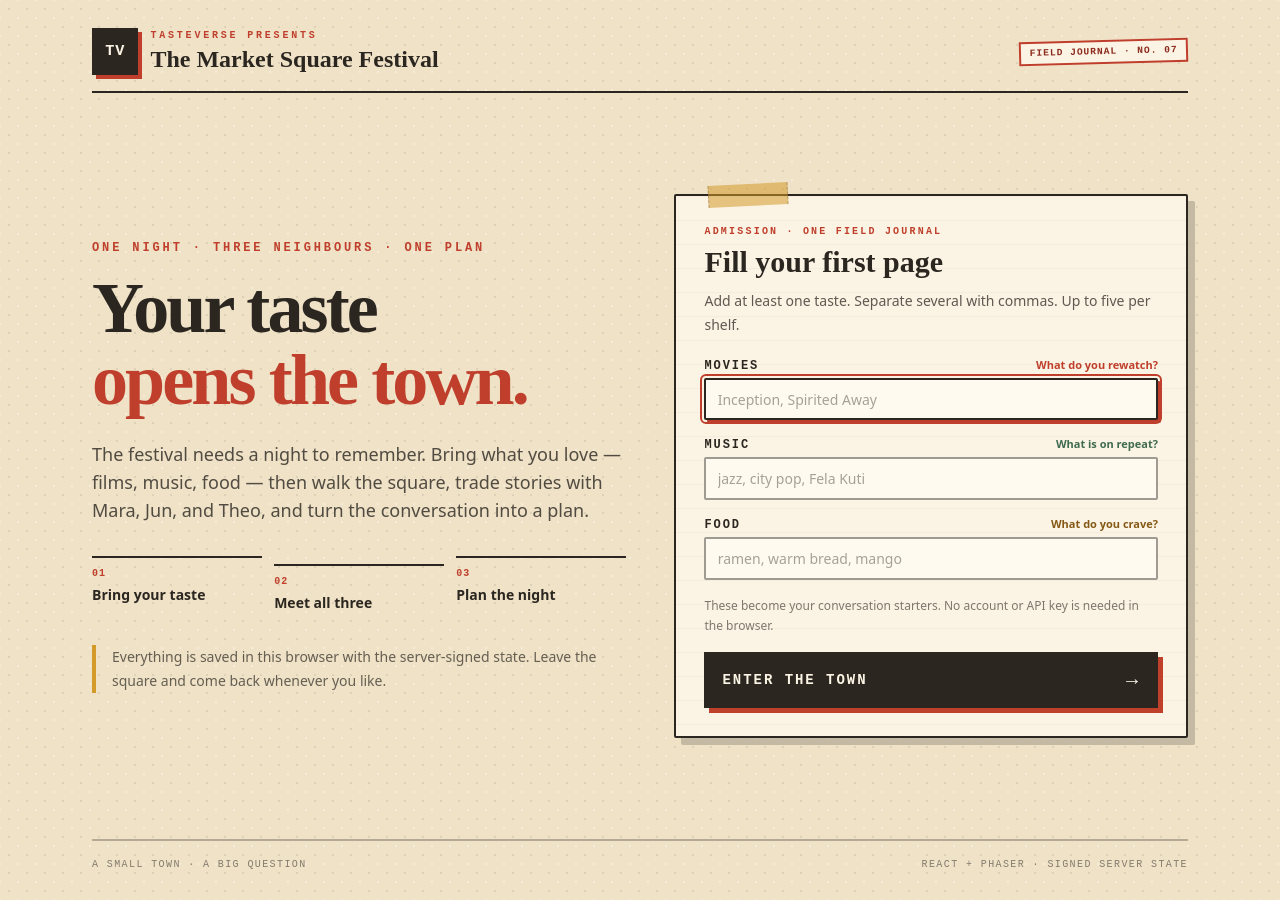
Test: App start flow › offers a retry when the start request cannot reach the API
Type "ramen" into the field labelled "Food What do you crave?". click: (931, 558)
box: [704,537,1158,580]
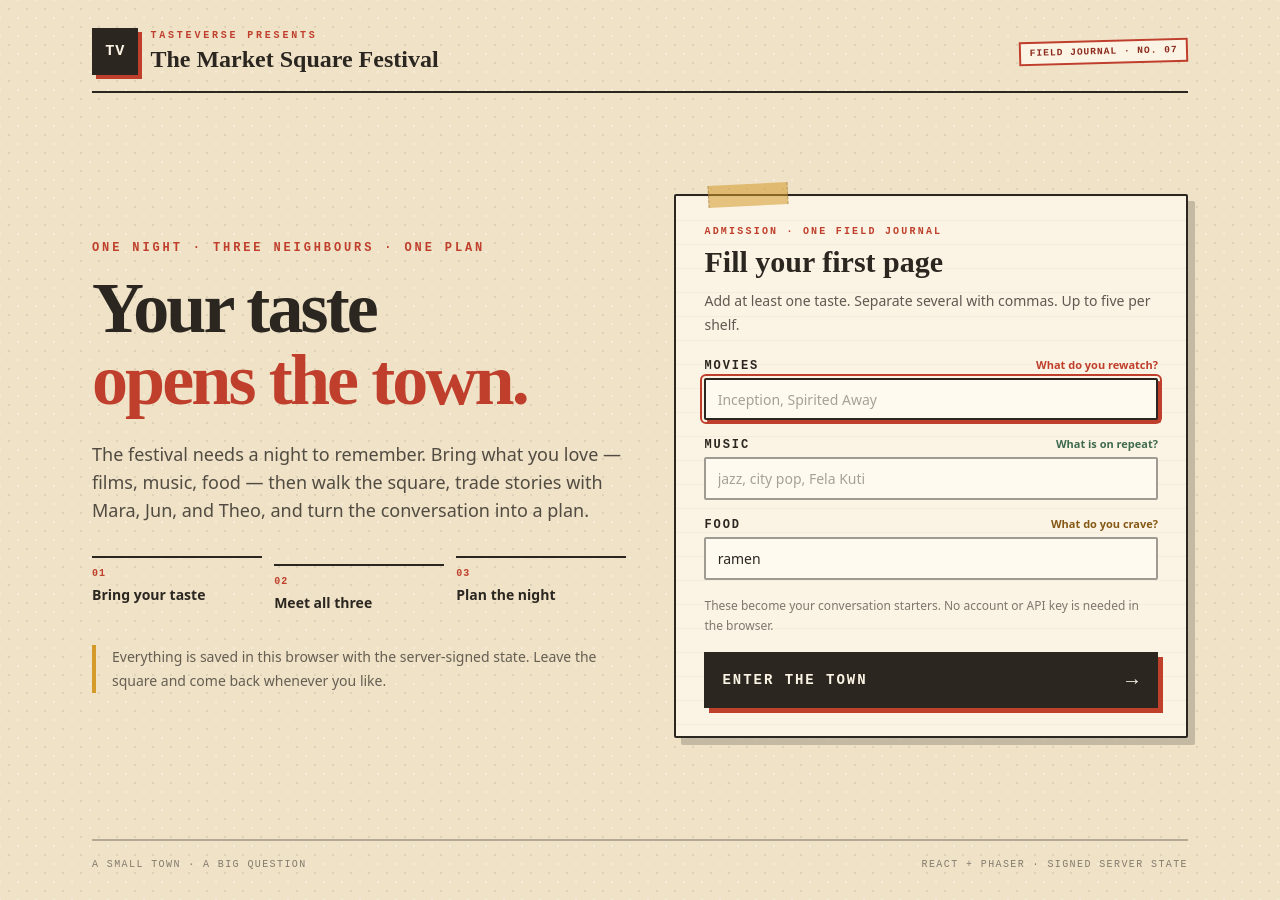
Click the button "Enter the town →". click: click(795, 680)
box: [704,652,1158,708]
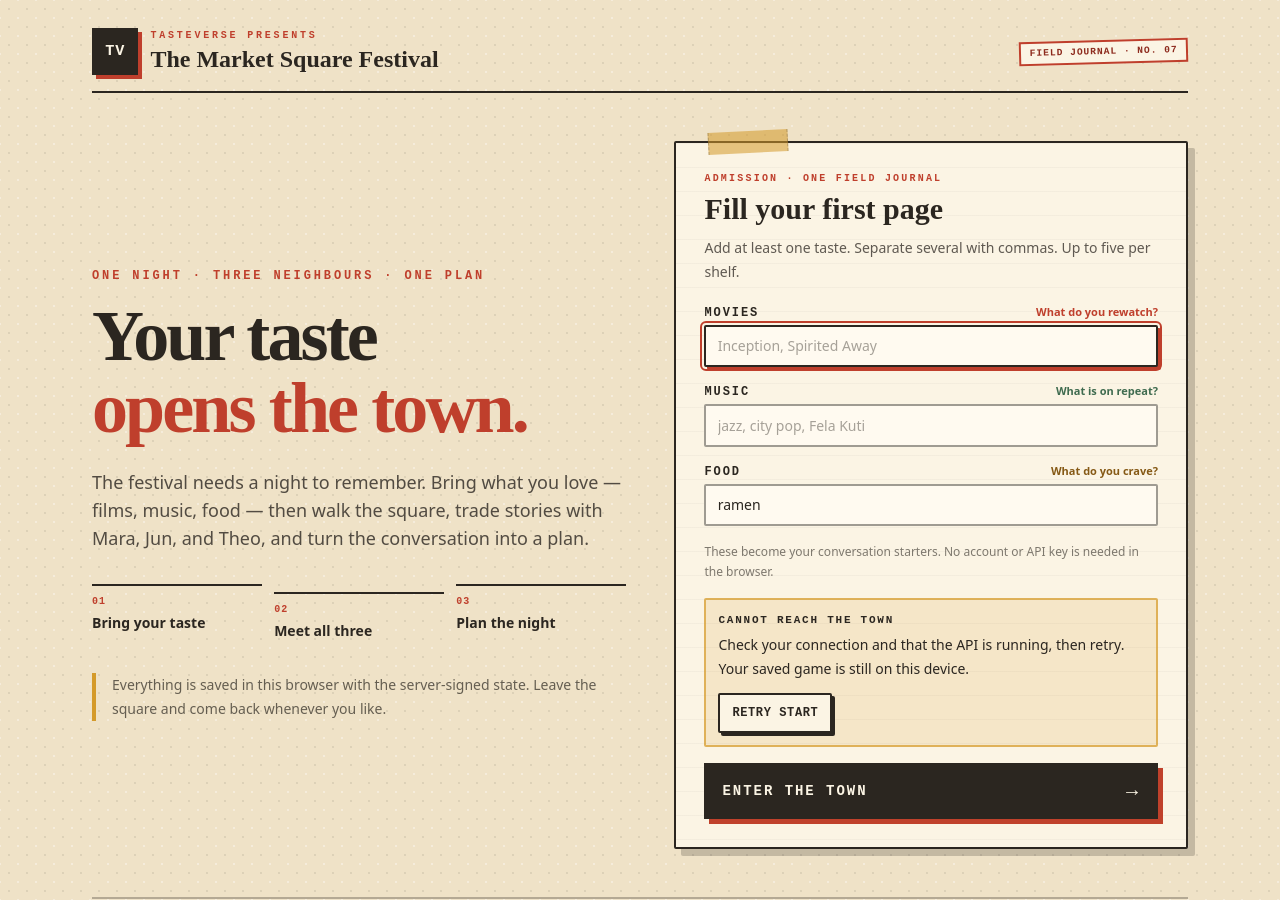
Check: the text "Cannot reach the town" is shown, box [718,614,894,626]
Click the button "Retry start". click: click(775, 713)
box: [718,693,832,733]
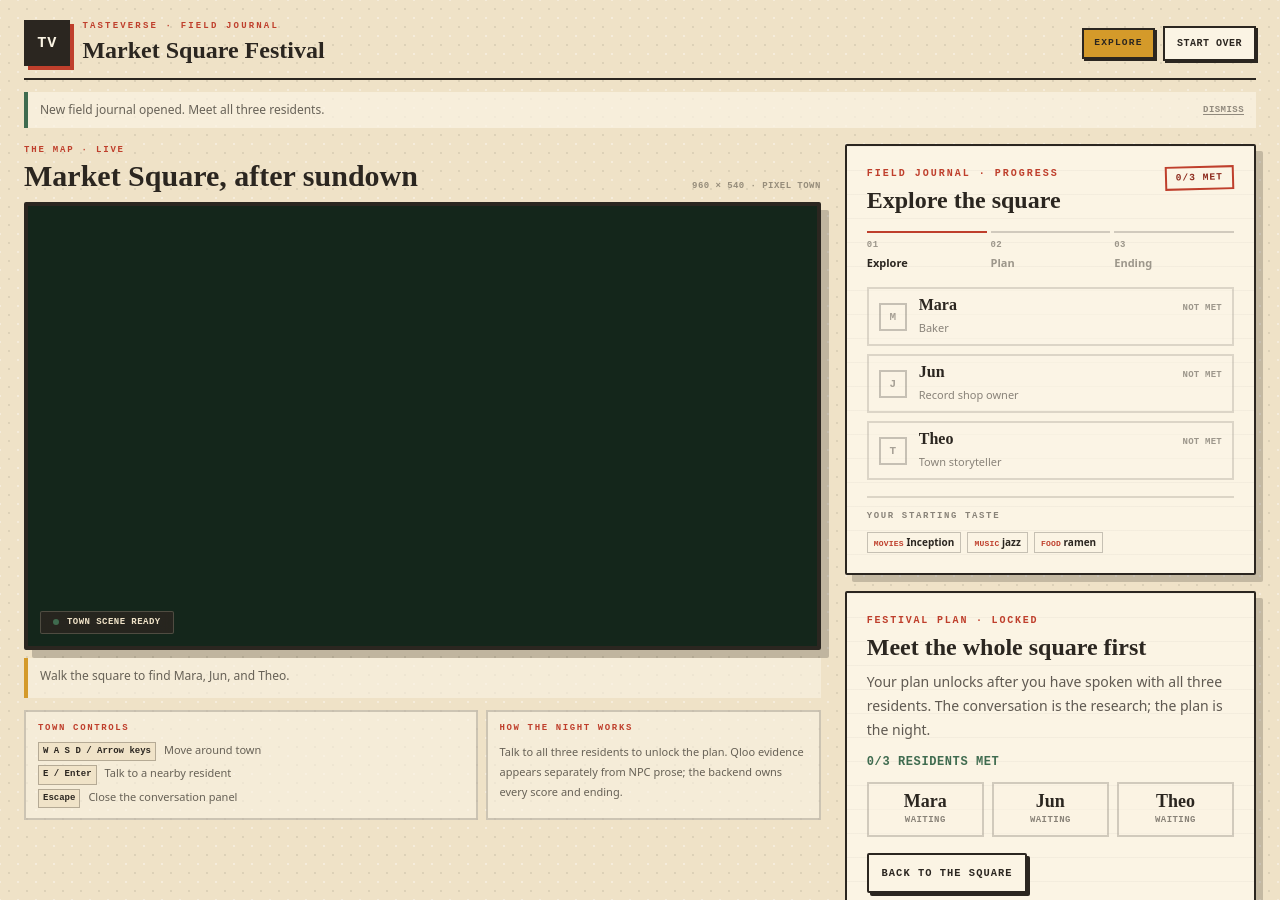
Check: the heading "Market Square, after sundown" is shown, box [24,158,418,194]
